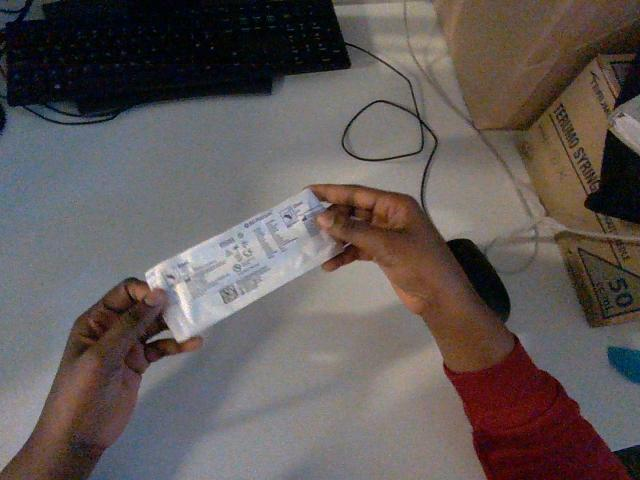syringe: (146, 189, 342, 341)
